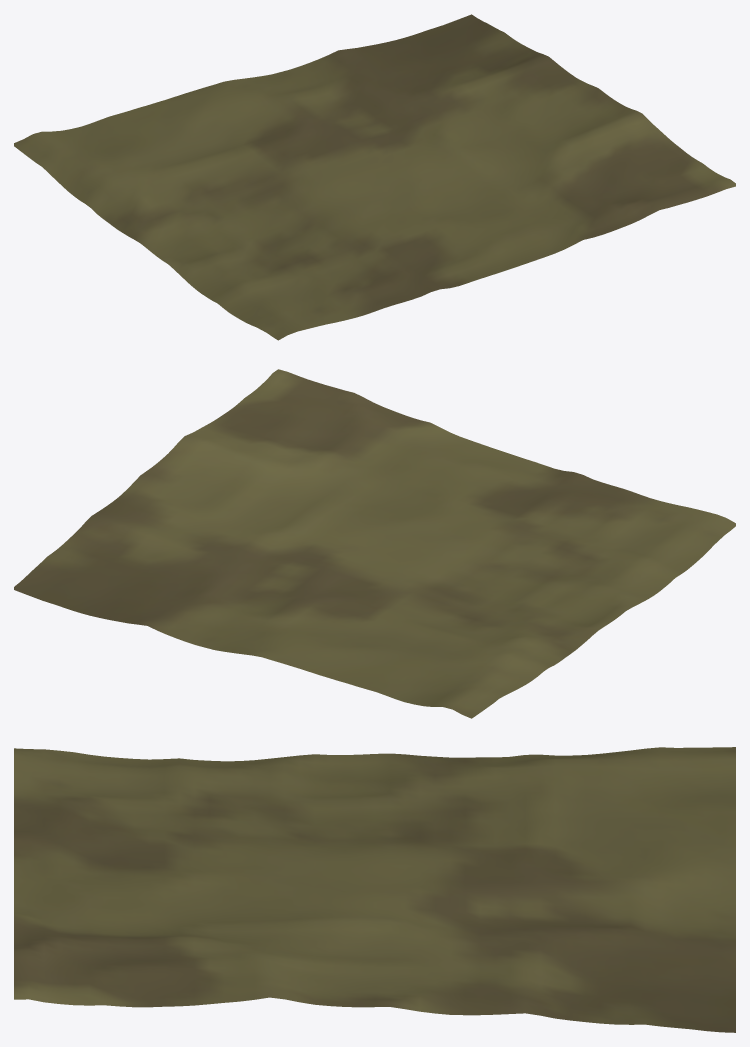
File: land_m_15_08.glb
3 views of the same model, one above another, from view 1: azimuth 30°, elevation 25°; view 2: azimuth 150°, elevation 25°; view 3: azimuth 270°, elevation 25° (orthographic). The views are drawn at different scales.
Parts seen in each view (by area): view 1: land_m_15_08; view 2: land_m_15_08; view 3: land_m_15_08.
Boxes of the visible parts, bbox=[...] form: land_m_15_08: bbox=[14, 14, 735, 340]; land_m_15_08: bbox=[14, 369, 735, 718]; land_m_15_08: bbox=[14, 747, 735, 1032].
Bounding box in the file's own units: 960 × 113 × 960.
